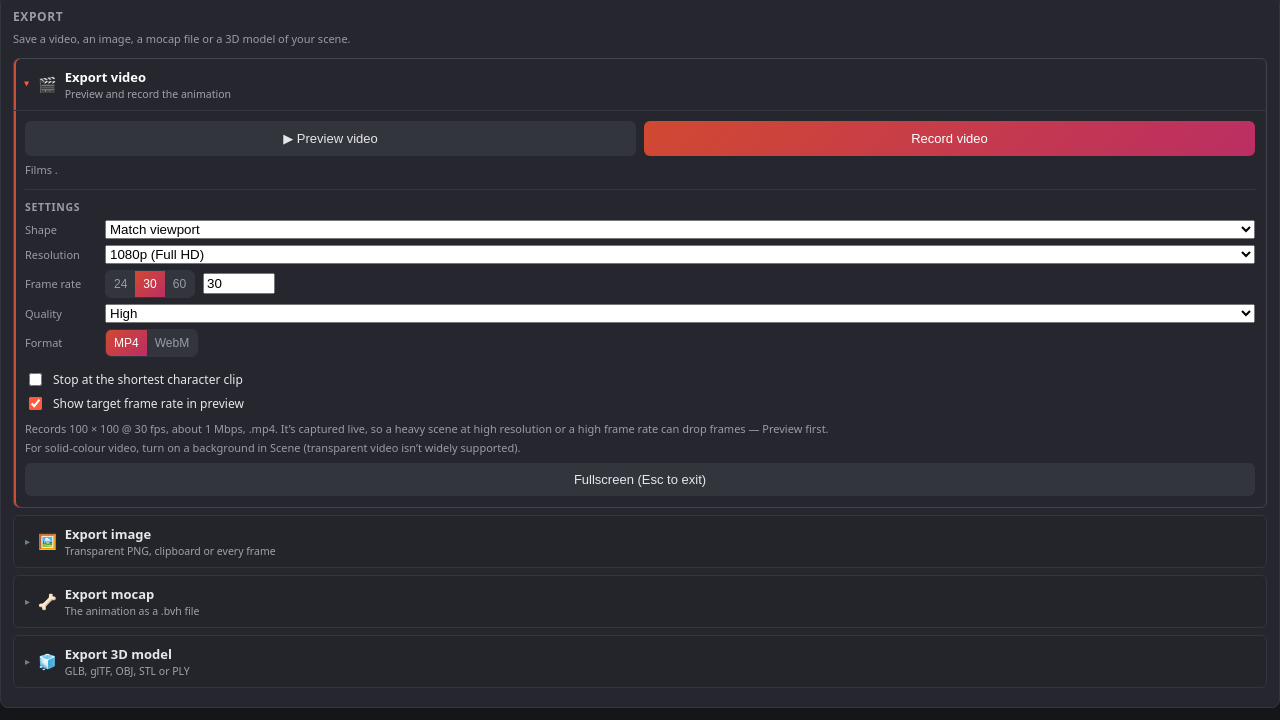
Scenario: Export panel — copy images › reports an image capture failure and restores the gizmos
The width and height of the screenshot is (1280, 720).
Click the button "▸ 🖼️ Export image Transparent PNG, clipboard or every frame" at (108, 534), box [14,516,1266,566]
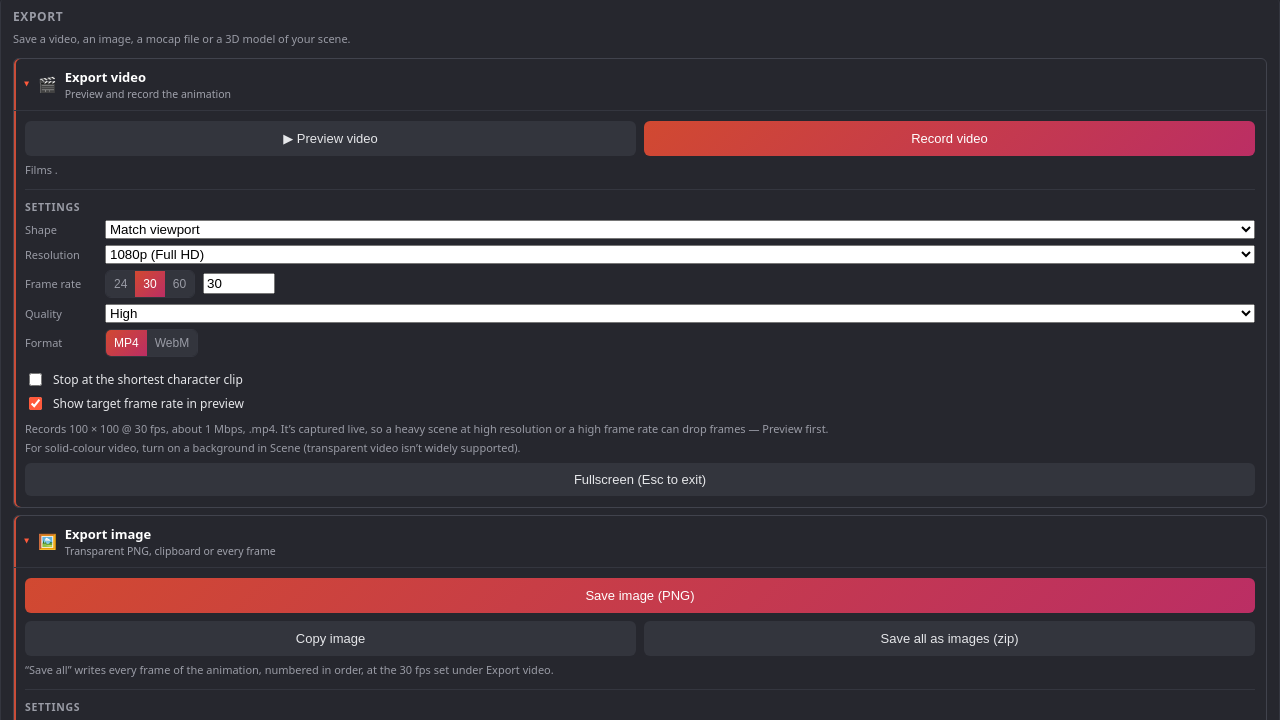
Click the button "Copy image" at (330, 638), box [25,620,636,656]
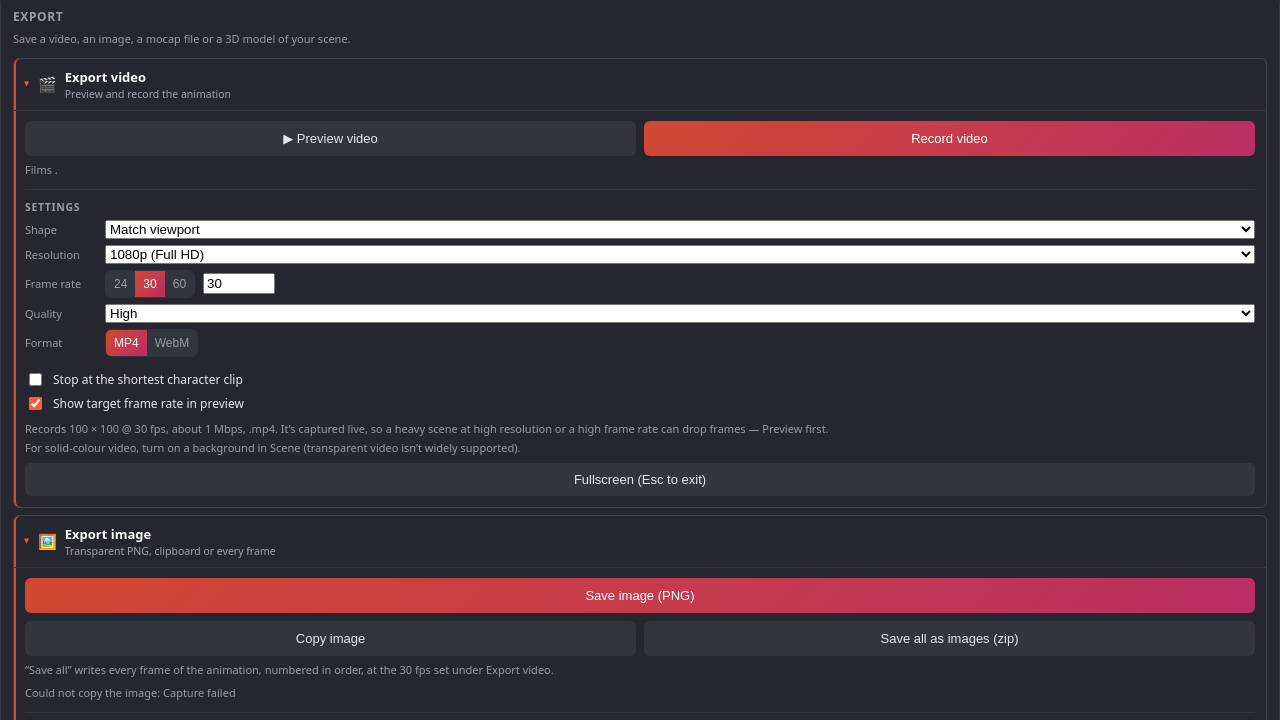
Expected: the button "Copy image" is enabled, [25,620,636,656]
Expected: the text "Could not copy the image: Capture failed" is shown, [25,684,236,700]
